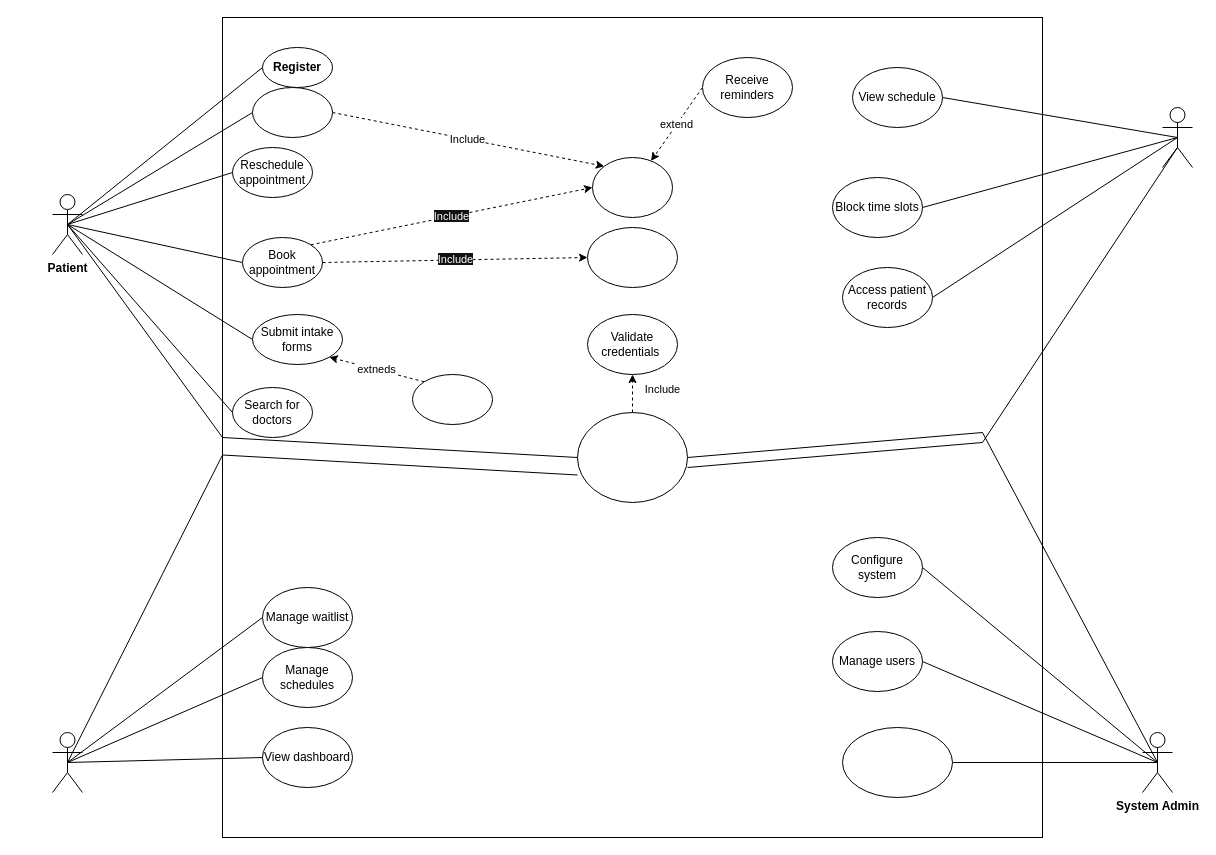
This 1216x855 diagram has some shape labels left out. Here are the shapes that lost their labels. From the top down, the centre of each, then its label:
the point at 292,112: Cancel appointment
the point at 1177,137: Doctor
the point at 632,187: Send notification
the point at 632,257: Validate availability
the point at 452,399: Upload insurance
the point at 632,457: Login
the point at 67,762: Medical Assistant
the point at 897,762: Register(Create non patient accounts)
